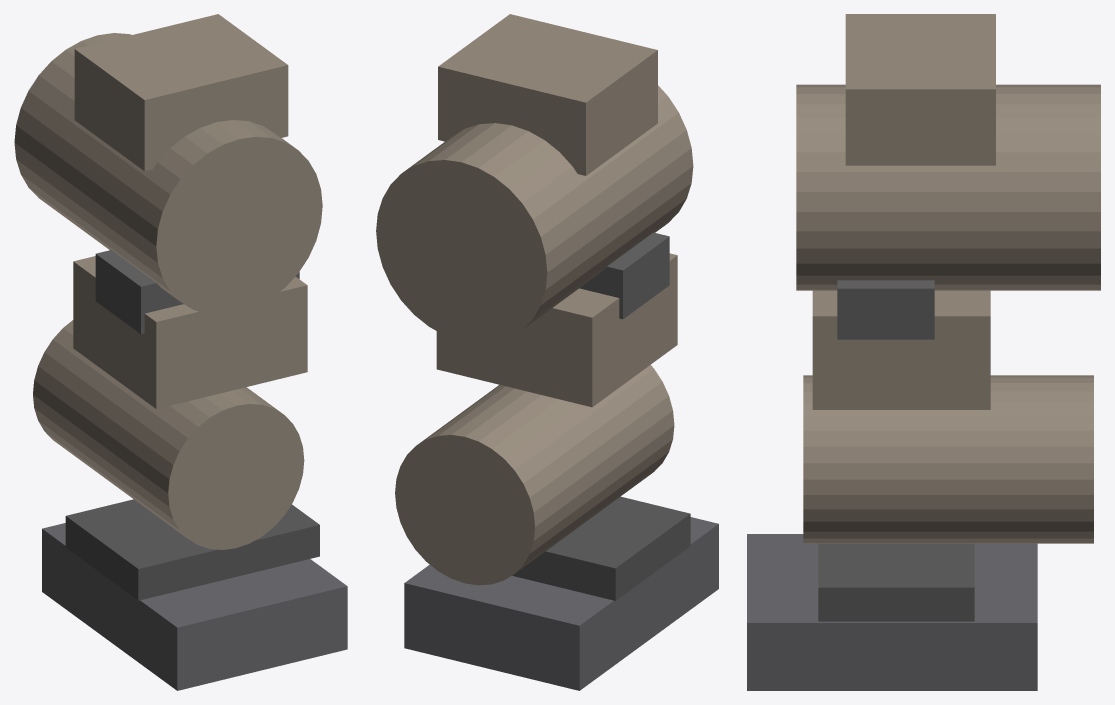
Rendered from leg_left_iron.glb.
3 views of the same model, side by side, from view 1: azimuth 30°, elevation 25°; view 2: azimuth 150°, elevation 25°; view 3: azimuth 270°, elevation 25° (orthographic). The views are drawn at different scales.
Parts seen in each view (by area): view 1: geometry_0, geometry_3, geometry_4, geometry_1, geometry_2, geometry_6, geometry_5; view 2: geometry_0, geometry_3, geometry_4, geometry_1, geometry_2, geometry_6, geometry_5; view 3: geometry_0, geometry_3, geometry_4, geometry_1, geometry_2, geometry_6, geometry_5.
Boxes of the visible parts, left/top/right/bottom form: geometry_0: left=14, top=33, right=322, bottom=315; geometry_3: left=33, top=320, right=304, bottom=549; geometry_4: left=42, top=523, right=347, bottom=690; geometry_1: left=74, top=14, right=288, bottom=171; geometry_2: left=73, top=256, right=307, bottom=408; geometry_6: left=65, top=499, right=319, bottom=600; geometry_5: left=95, top=250, right=299, bottom=334; geometry_0: left=376, top=85, right=693, bottom=343; geometry_3: left=395, top=365, right=674, bottom=585; geometry_4: left=404, top=517, right=718, bottom=690; geometry_1: left=438, top=14, right=657, bottom=175; geometry_2: left=436, top=253, right=677, bottom=407; geometry_6: left=512, top=496, right=690, bottom=600; geometry_5: left=579, top=232, right=669, bottom=319; geometry_0: left=796, top=84, right=1100, bottom=290; geometry_3: left=803, top=375, right=1093, bottom=543; geometry_4: left=747, top=534, right=1037, bottom=690; geometry_1: left=845, top=14, right=995, bottom=165; geometry_2: left=812, top=290, right=990, bottom=409; geometry_6: left=818, top=543, right=974, bottom=621; geometry_5: left=837, top=280, right=934, bottom=339.
Bounding box in the file's own units: 0.648 × 1.89 × 1.02.
